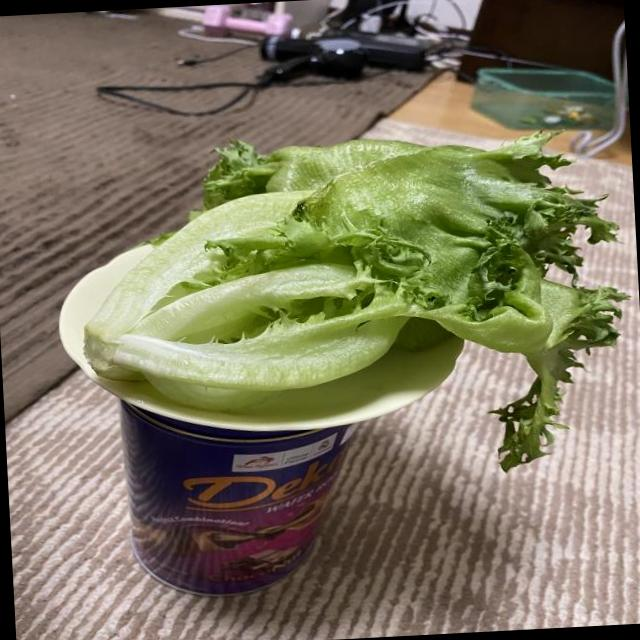Lettuce-Ready-to-Harvest: (85, 135, 624, 469)
